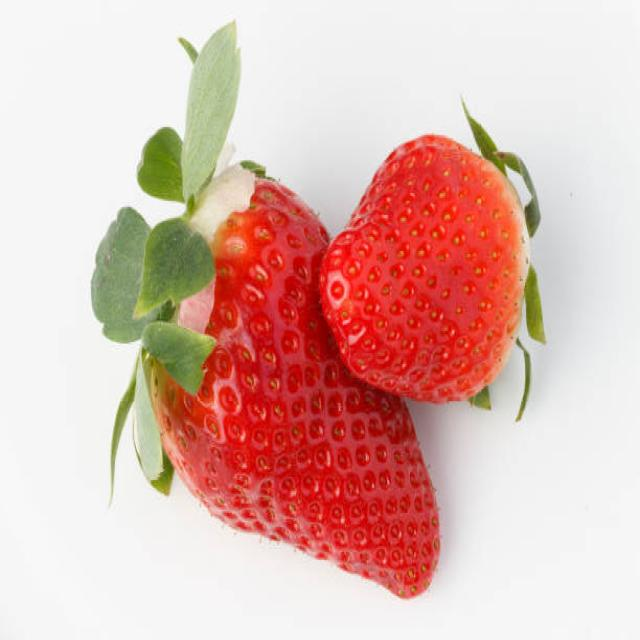Healthy Fruit: (144, 169, 440, 599), (319, 132, 530, 401)
